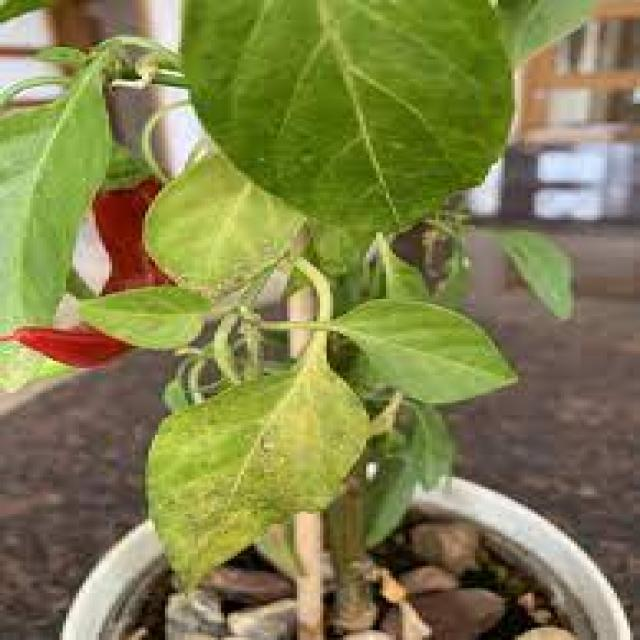virus_kuning: (130, 322, 378, 596), (138, 122, 328, 305)
